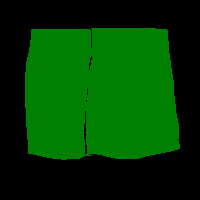mutande: (85, 28, 180, 159), (25, 28, 92, 160)
